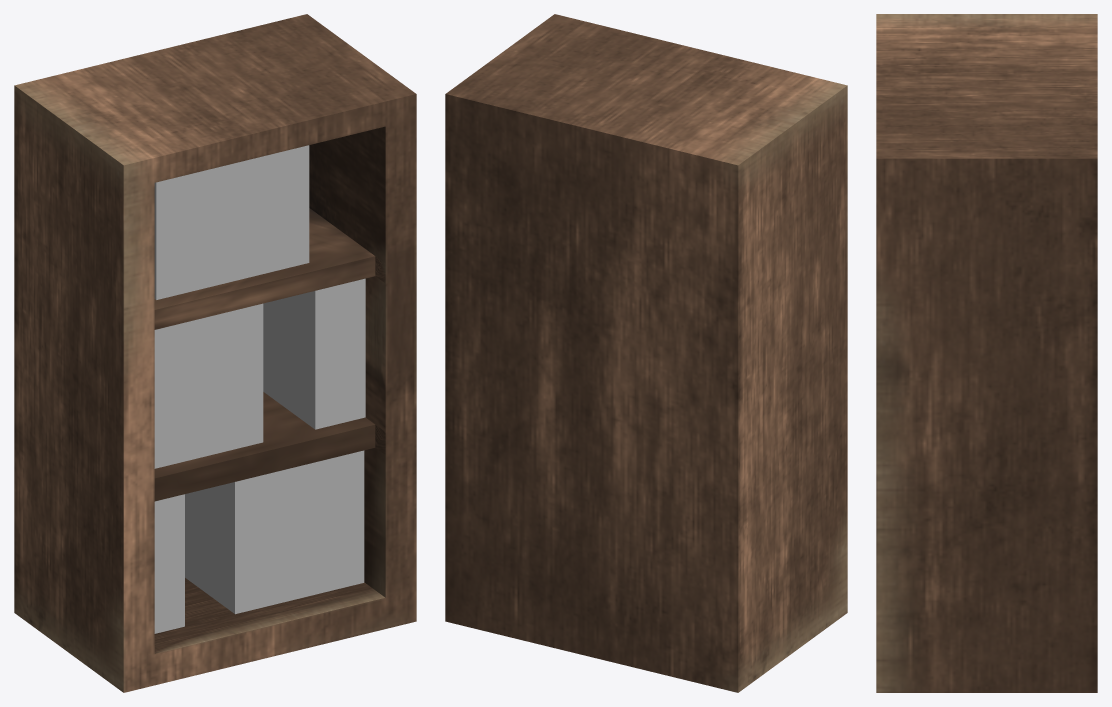
Rendered from BookShelf_02.fbx.
3 renders of one model, left to right at view 1: azimuth 30°, elevation 25°; view 2: azimuth 150°, elevation 25°; view 3: azimuth 270°, elevation 25°, orthographic.
Parts seen in each view (by area): view 1: Books02; view 2: Books02; view 3: Books02.
Boxes of the visible parts, left/top/right/bottom form: Books02: left=14, top=14, right=416, bottom=692; Books02: left=445, top=14, right=847, bottom=692; Books02: left=876, top=14, right=1097, bottom=692.
Size of the model in its own units: 123 by 212 by 79.67.
